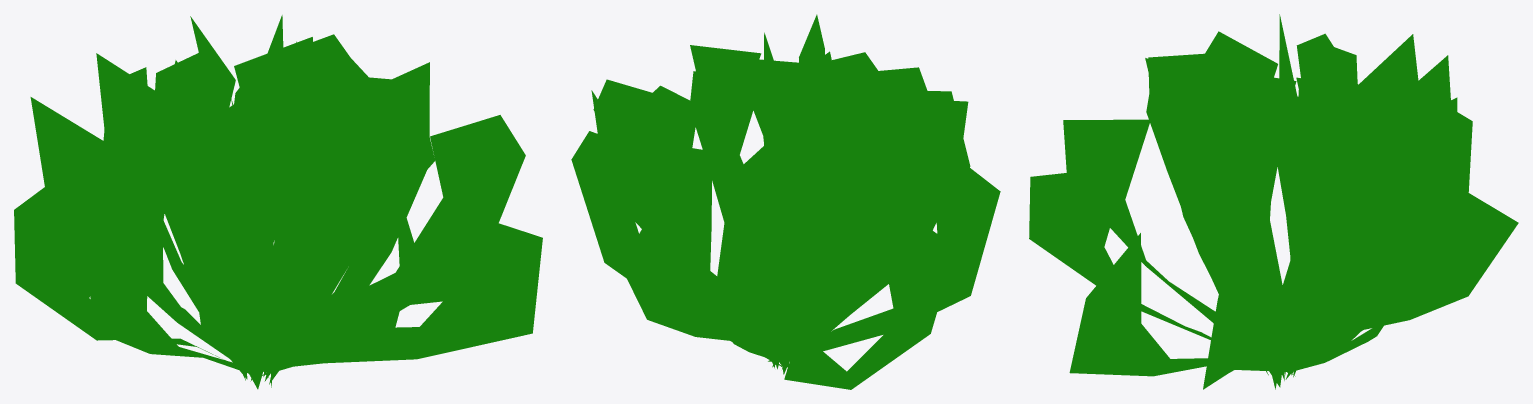
Rendered from Brittlebush_4.fbx.
The picture shows the model from 3 angles, left to right: view 1: azimuth 30°, elevation 25°; view 2: azimuth 150°, elevation 25°; view 3: azimuth 270°, elevation 25°; orthographic projection. The views are drawn at different scales.
Visible parts, largest first — view 1: Brittlebush_4; view 2: Brittlebush_4; view 3: Brittlebush_4.
Part boxes in pixels (<box>): Brittlebush_4: <box>14,15,542,389</box>; Brittlebush_4: <box>571,14,1000,389</box>; Brittlebush_4: <box>1029,14,1518,389</box>.
Bounding box in the file's own units: 129 × 93.08 × 124.
